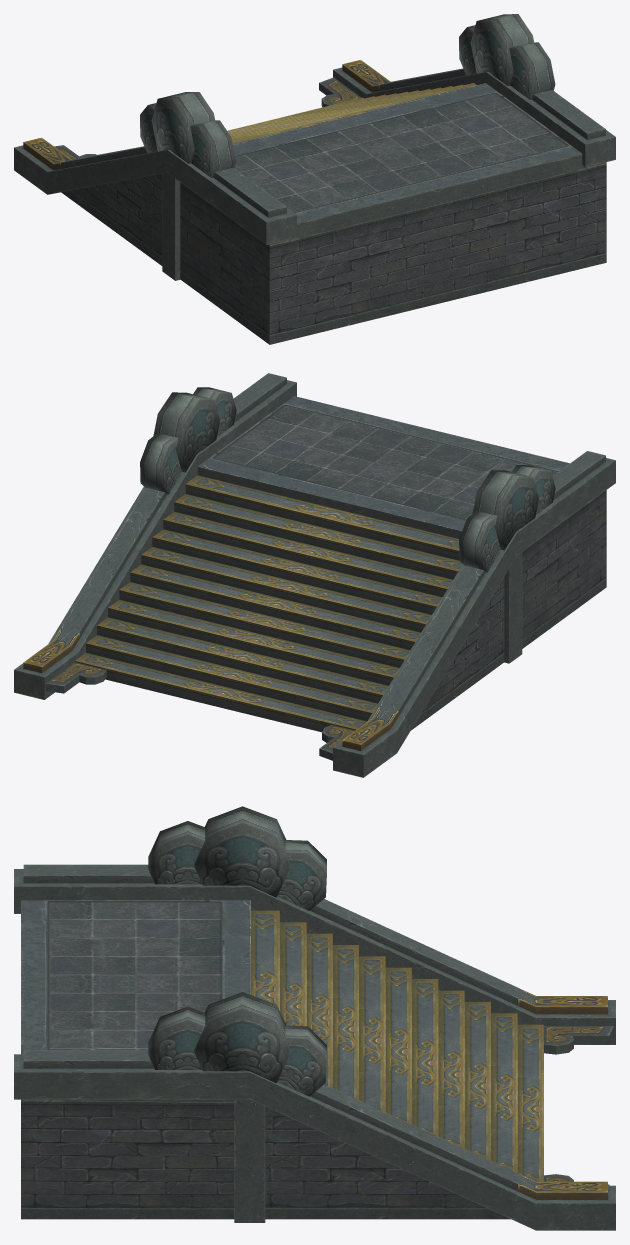
File: jie_ti_001.FBX
3 views of the same model, one above another, from view 1: azimuth 30°, elevation 25°; view 2: azimuth 150°, elevation 25°; view 3: azimuth 270°, elevation 25° (orthographic). The views are drawn at different scales.
Visible parts, largest first — view 1: jie_ti_001_a01; view 2: jie_ti_001_a01; view 3: jie_ti_001_a01.
Part boxes in pixels (x1,y1,x2,y2): jie_ti_001_a01: (14,14,615,344); jie_ti_001_a01: (14,373,615,777); jie_ti_001_a01: (14,806,615,1230).
Bounding box in the file's own units: 821 × 417 × 1027.
1 material, 1 textured.
